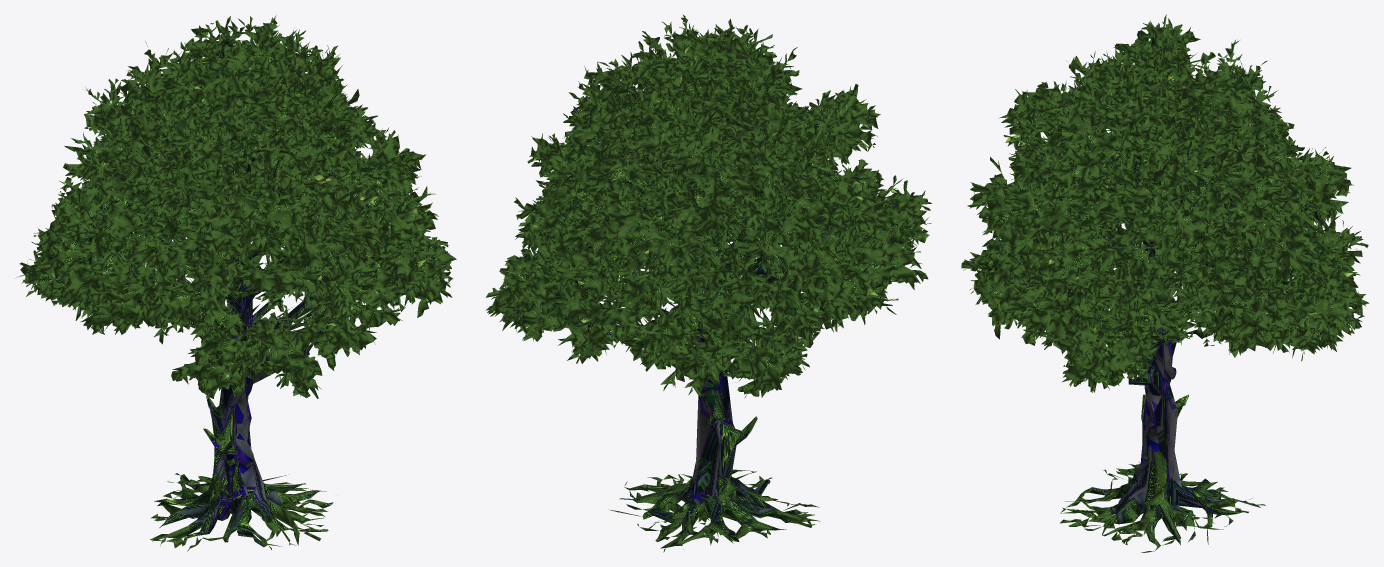
Rendered from pohon-hq.glb.
3 renders of one model, left to right at view 1: azimuth 30°, elevation 25°; view 2: azimuth 150°, elevation 25°; view 3: azimuth 270°, elevation 25°, orthographic. The views are drawn at different scales.
Visible parts, largest first — view 1: mesh_node; view 2: mesh_node; view 3: mesh_node.
Boxes of the visible parts, left/top/right/bottom form: mesh_node: left=16, top=15, right=456, bottom=551; mesh_node: left=485, top=15, right=931, bottom=552; mesh_node: left=961, top=14, right=1369, bottom=552.
Size of the model in its own units: 1.58 by 1.92 by 1.46.
1 material, 1 textured.
